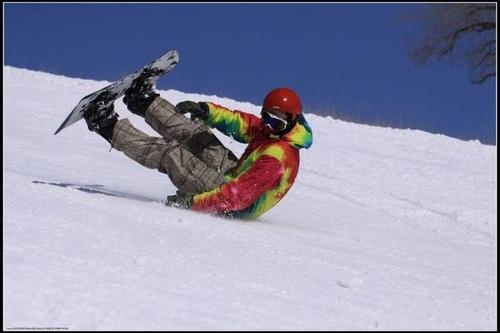falling: (63, 50, 322, 219)
